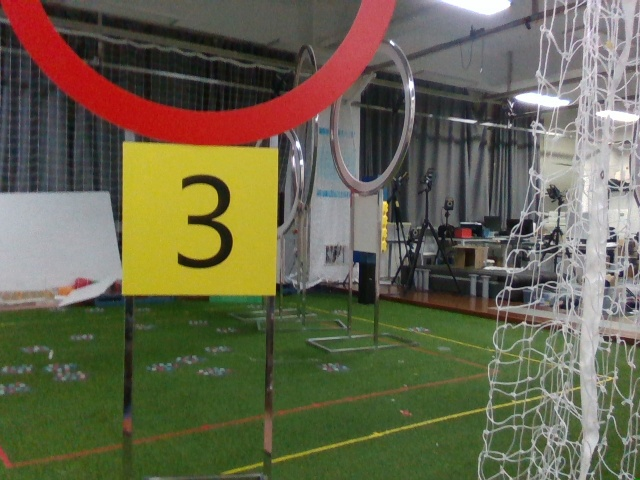target: (121, 148, 278, 294)
